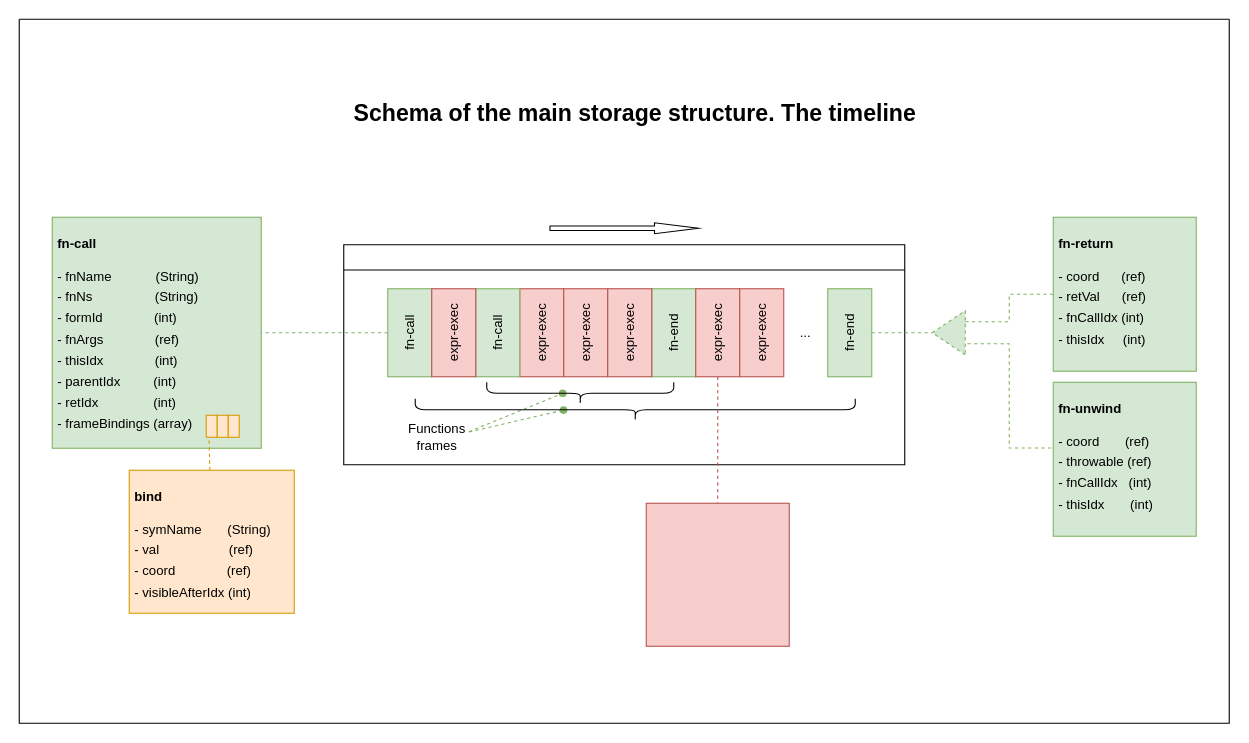
Image size: 1249x743. Some labels were removed from this diagram. Here are the shapes that lost their labels. From the top down, the box of each, then its label:
(343, 244, 905, 465): A thread timeline
(645, 502, 789, 646): expr-exec - coord (ref) - exprVal (ref) - fnCallIdx (int) - thisIdx (int)
